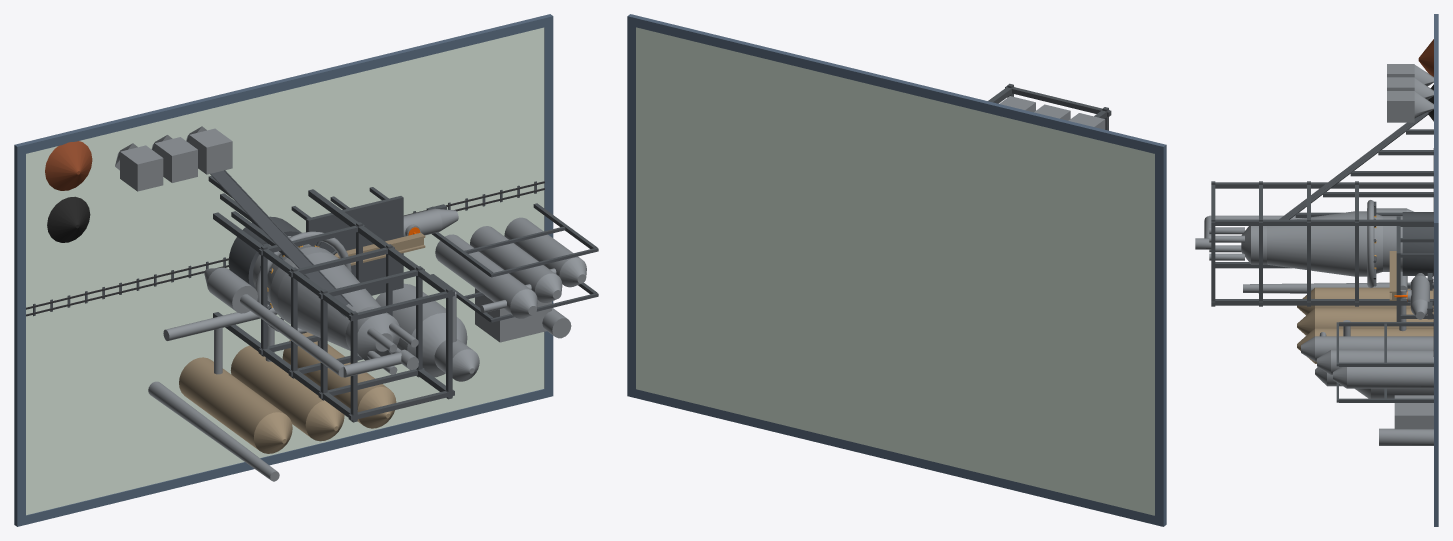
Rendered from ironmaking_scene.obj.
The picture shows the model from 3 angles, left to right: view 1: azimuth 30°, elevation 25°; view 2: azimuth 150°, elevation 25°; view 3: azimuth 270°, elevation 25°; orthographic projection. The views are drawn at different scales.
Parts seen in each view (by area): view 1: IM_Base_Plate, IM_Base_Rim, IM_BF_Tower, IM_HotStoves, IM_FINEX_Reactors, IM_BF_Shell, IM_Stockhouse_Bins, IM_FINEX_MelterGasifier, IM_CastHouse_Deck, IM_FINEX_Reactor_Frame, IM_FINEX_HCI_Plant, IM_Charging_Conveyor (+13 smaller); view 2: IM_Base_Plate, IM_Base_Rim, IM_BF_Tower, IM_Stockhouse_Bins; view 3: IM_BF_Tower, IM_BF_Shell, IM_FINEX_Reactors, IM_HotStoves, IM_Base_Rim, IM_Stockhouse_Bins, IM_FINEX_HCI_Plant, IM_Charging_Supports, IM_FINEX_Reactor_Frame, IM_BF_Foundation, IM_Charging_Conveyor, IM_BF_Uptakes (+10 smaller).
Part boxes in pixels (x1=…): IM_Base_Plate: x1=26, y1=27, x2=544, y2=515; IM_Base_Rim: x1=14, y1=14, x2=553, y2=526; IM_BF_Tower: x1=213, y1=189, x2=454, y2=422; IM_HotStoves: x1=179, y1=332, x2=396, y2=453; IM_FINEX_Reactors: x1=435, y1=217, x2=586, y2=318; IM_BF_Shell: x1=253, y1=236, x2=399, y2=360; IM_Stockhouse_Bins: x1=115, y1=126, x2=232, y2=191; IM_FINEX_MelterGasifier: x1=375, y1=283, x2=479, y2=381; IM_CastHouse_Deck: x1=306, y1=196, x2=403, y2=295; IM_FINEX_Reactor_Frame: x1=430, y1=203, x2=598, y2=322; IM_FINEX_HCI_Plant: x1=475, y1=288, x2=571, y2=342; IM_Charging_Conveyor: x1=210, y1=170, x2=352, y2=317; IM_Base_Plate: x1=636, y1=27, x2=1154, y2=515; IM_Base_Rim: x1=627, y1=14, x2=1166, y2=526; IM_BF_Tower: x1=988, y1=83, x2=1111, y2=130; IM_Stockhouse_Bins: x1=999, y1=96, x2=1105, y2=129; IM_BF_Tower: x1=1211, y1=181, x2=1433, y2=306; IM_BF_Shell: x1=1241, y1=211, x2=1402, y2=276; IM_FINEX_Reactors: x1=1301, y1=336, x2=1433, y2=388; IM_HotStoves: x1=1297, y1=287, x2=1433, y2=363; IM_Base_Rim: x1=1434, y1=14, x2=1438, y2=526; IM_Stockhouse_Bins: x1=1387, y1=64, x2=1433, y2=122; IM_FINEX_HCI_Plant: x1=1379, y1=395, x2=1433, y2=445; IM_Charging_Supports: x1=1295, y1=129, x2=1433, y2=217; IM_FINEX_Reactor_Frame: x1=1336, y1=322, x2=1433, y2=402; IM_BF_Foundation: x1=1402, y1=212, x2=1433, y2=275; IM_Charging_Conveyor: x1=1279, y1=112, x2=1428, y2=219; IM_BF_Uptakes: x1=1195, y1=227, x2=1244, y2=260.
Bounding box in the file's own units: 124 × 84 × 61.
